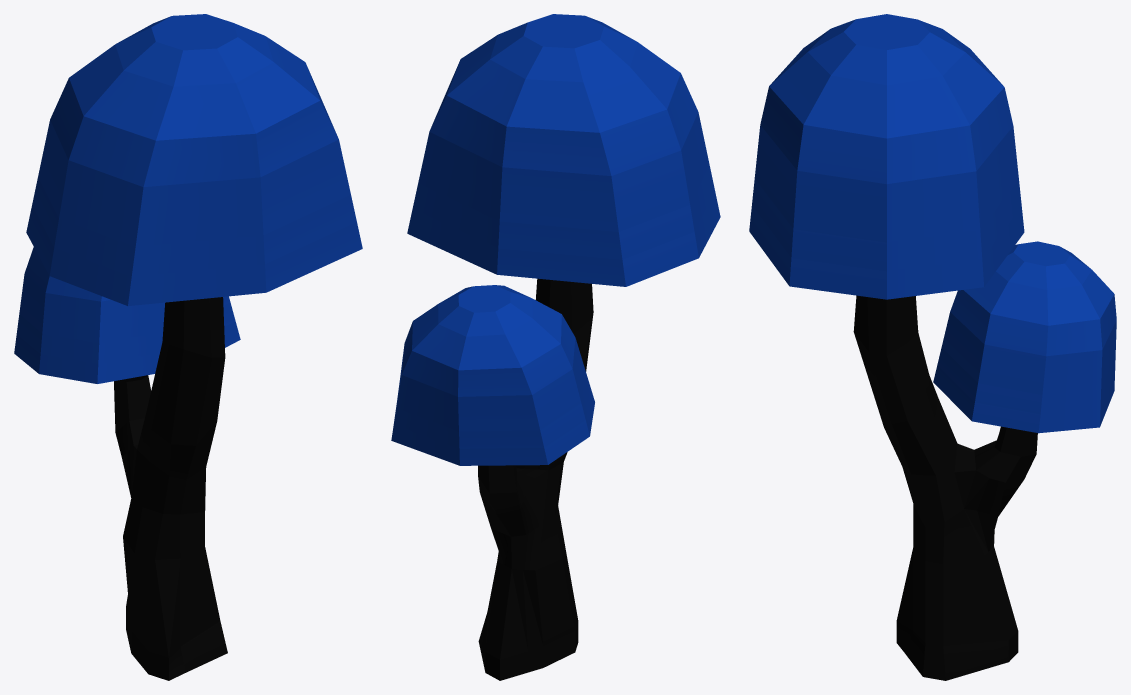
File: Mushroom02_HT.fbx
3 renders of one model, left to right at view 1: azimuth 30°, elevation 25°; view 2: azimuth 150°, elevation 25°; view 3: azimuth 270°, elevation 25°, orthographic. The views are drawn at different scales.
Visible parts, largest first — view 1: Mushroom02_HT; view 2: Mushroom02_HT; view 3: Mushroom02_HT.
Part boxes in pixels (x1,y1,x2,y2): Mushroom02_HT: (14,14,362,680); Mushroom02_HT: (391,14,720,680); Mushroom02_HT: (749,14,1116,680).
Size of the model in its own units: 28.63 by 61.78 by 32.81.
